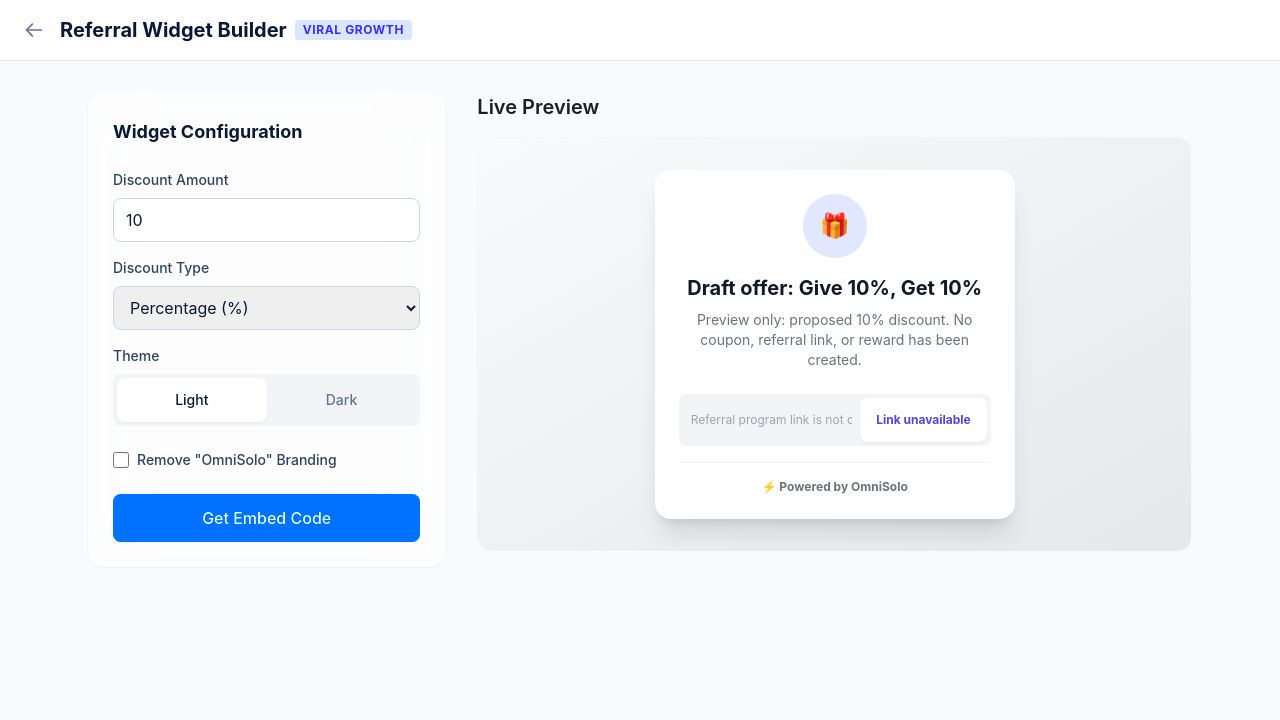
Test case: Referral widget authenticated preview copy › copies exactly the displayed private preview only after a click and acknowledges fulfillment
Later steps or results of the test are not shown.
Click the button "Get Embed Code". click: (267,518)
box: [113,494,420,542]
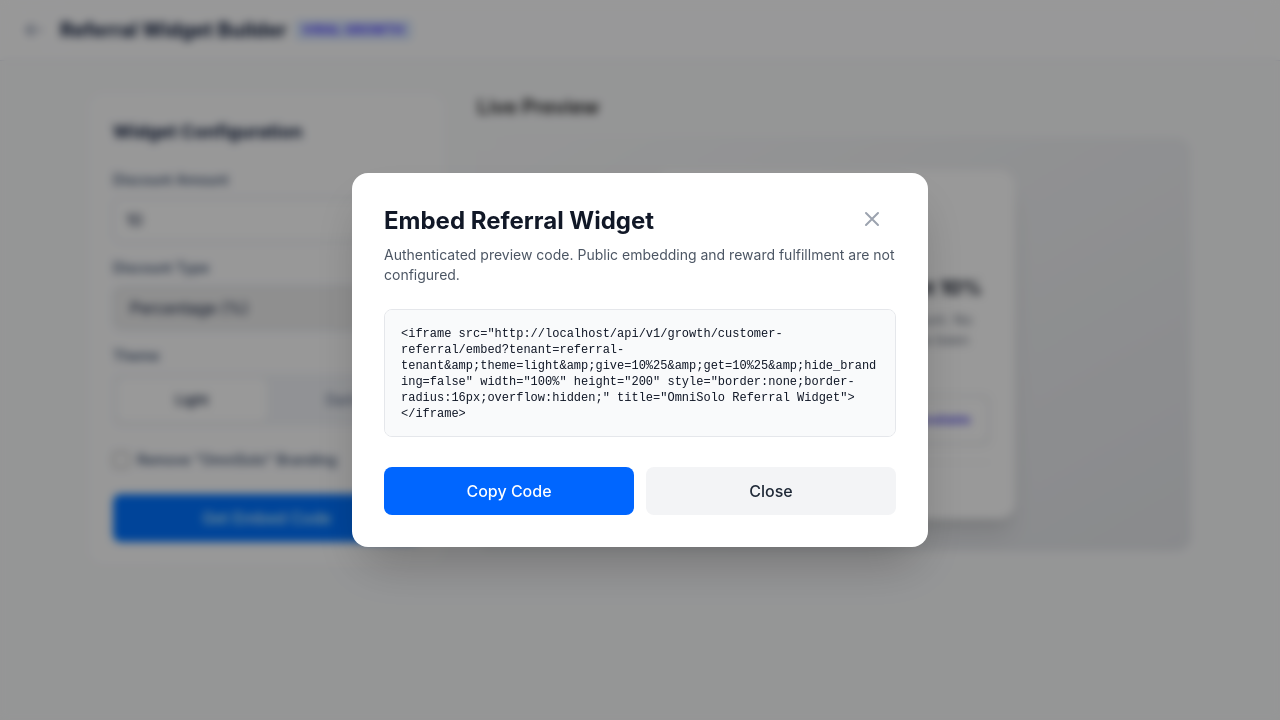
Click the button "Copy Code". click: (509,491)
box: [384,467,634,515]
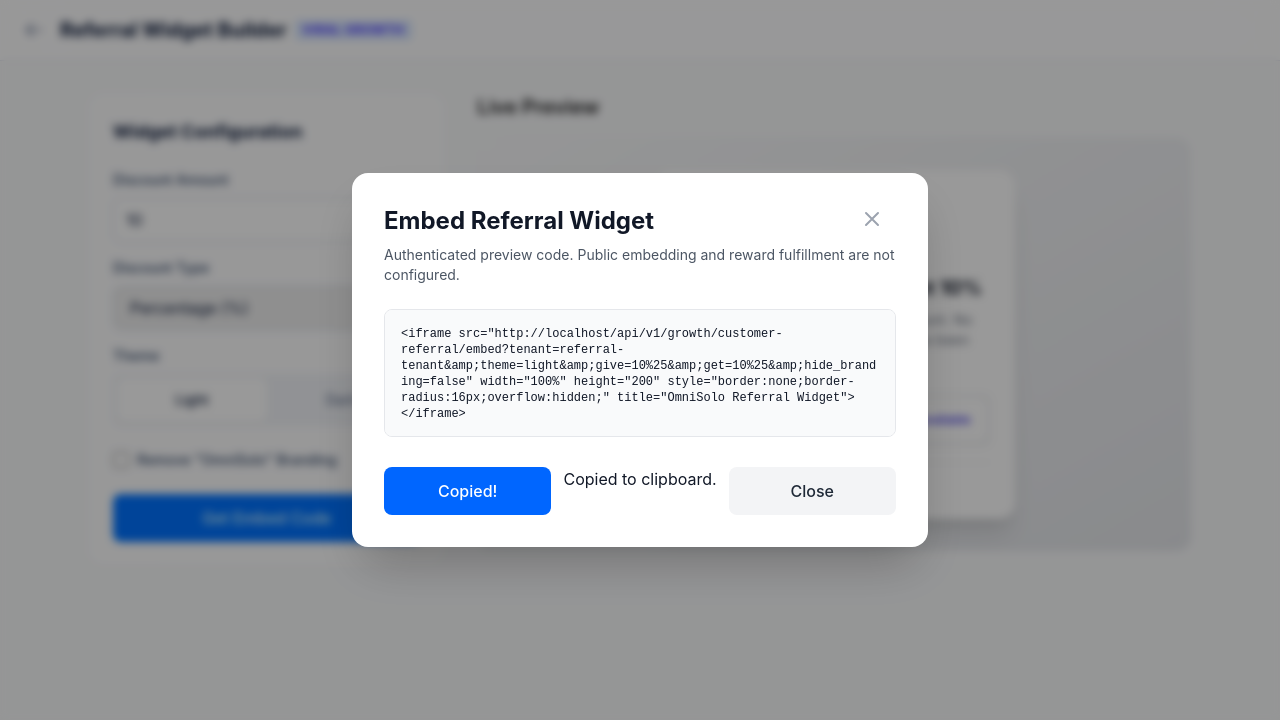
Now the message reads "Copied to clipboard.", box [563,469,716,489]
